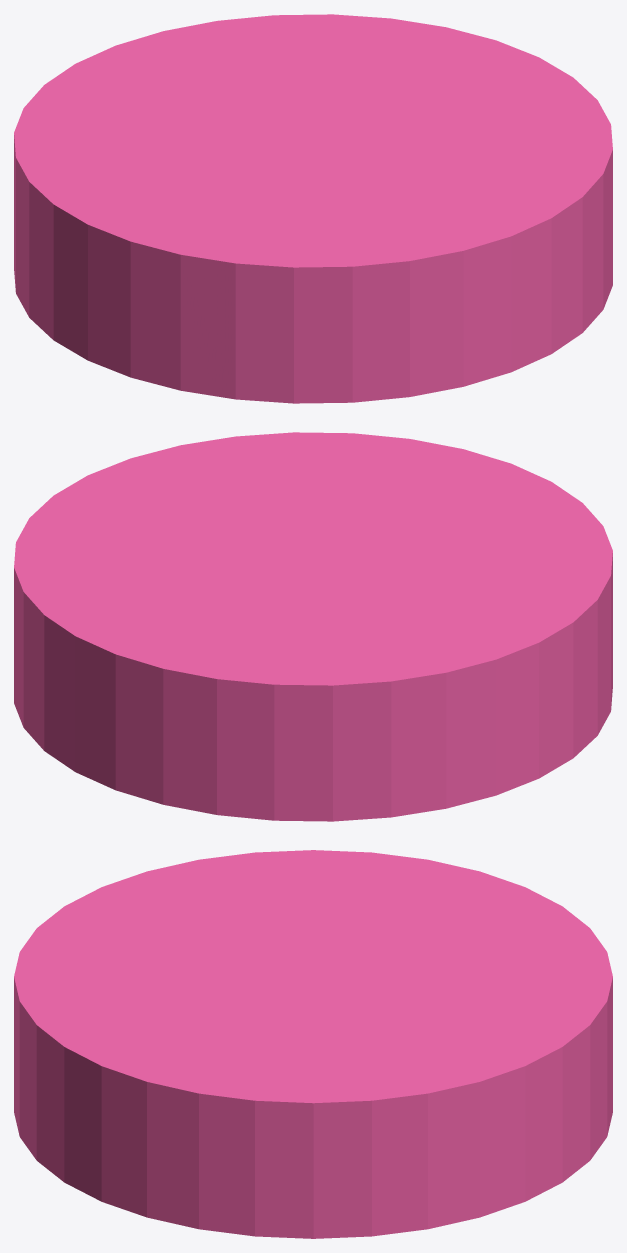
File: circle_pink.gltf
The picture shows the model from 3 angles, top to bottom: view 1: azimuth 30°, elevation 25°; view 2: azimuth 150°, elevation 25°; view 3: azimuth 270°, elevation 25°; orthographic projection.
Parts seen in each view (by area): view 1: Circle; view 2: Circle; view 3: Circle.
Boxes of the visible parts, x1,y1,x2,y2 form: Circle: (14, 14, 612, 403); Circle: (14, 432, 612, 821); Circle: (14, 850, 612, 1238).
Bounding box in the file's own units: 0.2 × 0.05 × 0.2.
